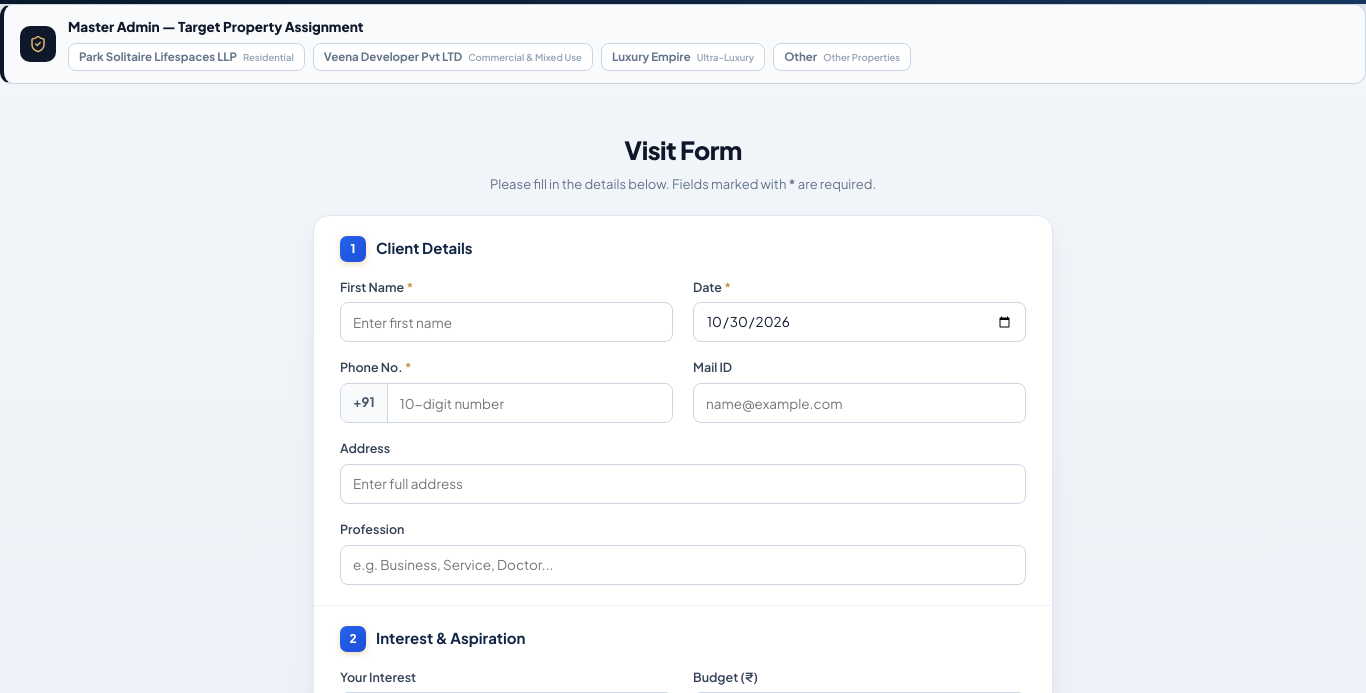
Scenario: Park Solitaire Client Visit App › Client Visit Form & 10-Digit Phone Validation › rejects phone numbers with fewer than 10 digits
This screenshot has width=1366, height=693.
Type "Aarav Patel" into the field with placeholder "Enter first name".
click(506, 322); type("Aarav Patel")  # box 340,302 -> 673,342
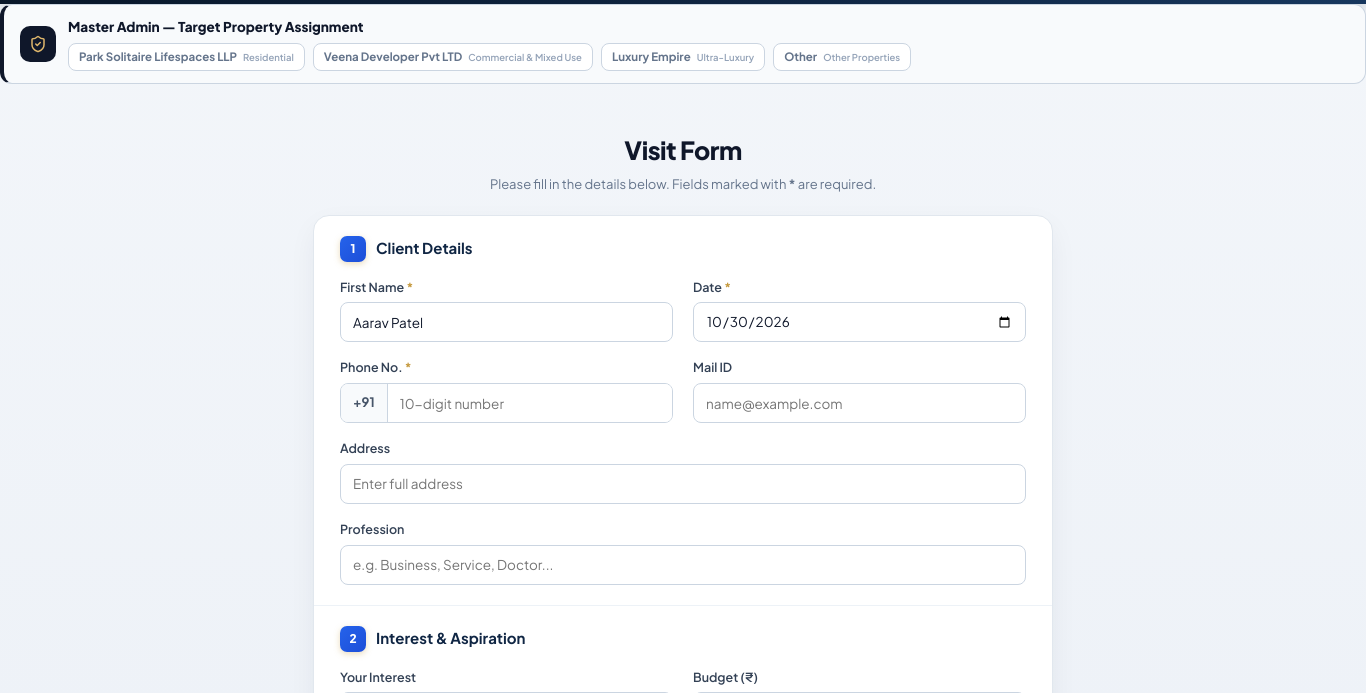
Type "987654" into the field with placeholder "10-digit number".
click(530, 403); type("987654")  # box 388,384 -> 672,422
(page scrolled)
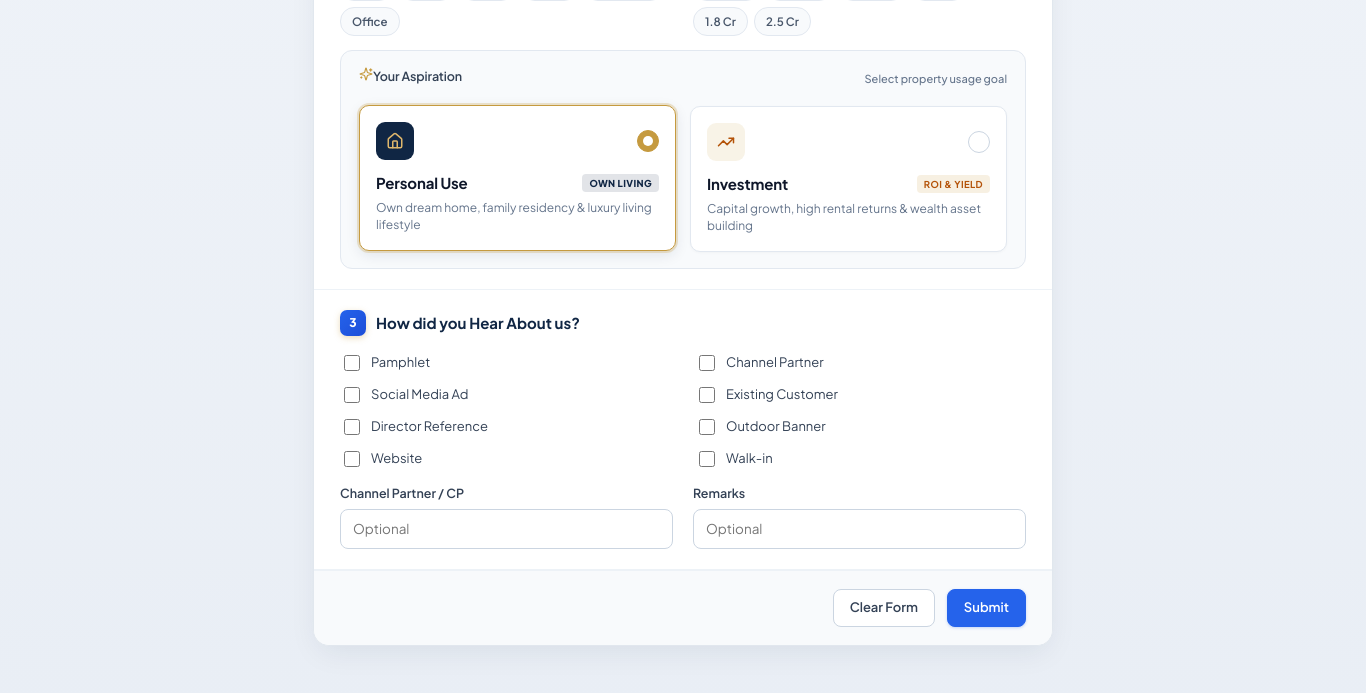
Click the button "Submit".
click(986, 608)  # box 947,588 -> 1026,626
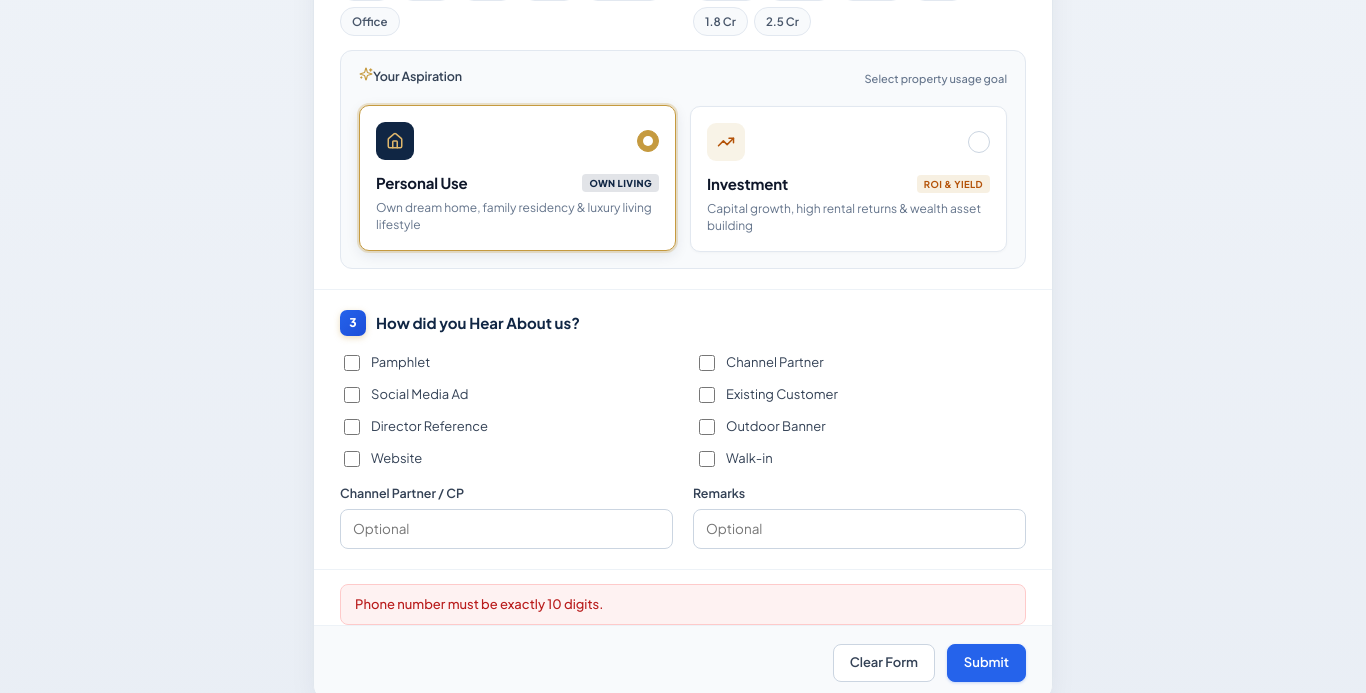
Now the text "Phone number must be exactly 10 digits." is shown, box 340,584 -> 1026,625
